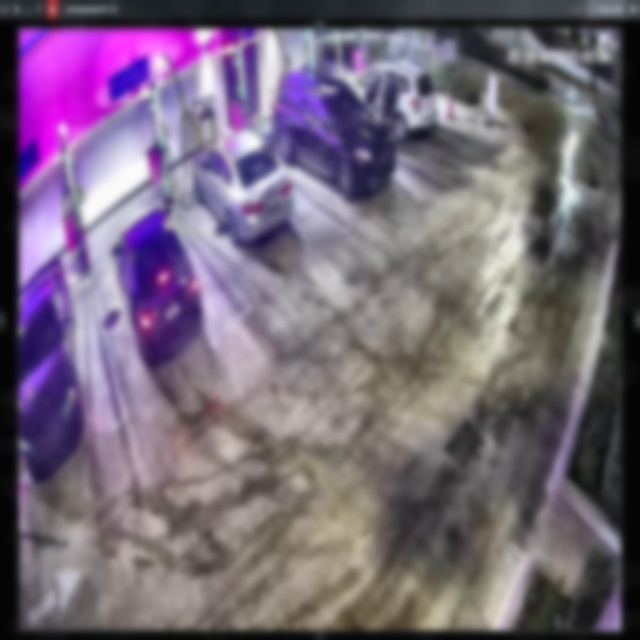Car: (273, 71, 394, 202), (113, 207, 201, 366), (193, 130, 294, 243)
